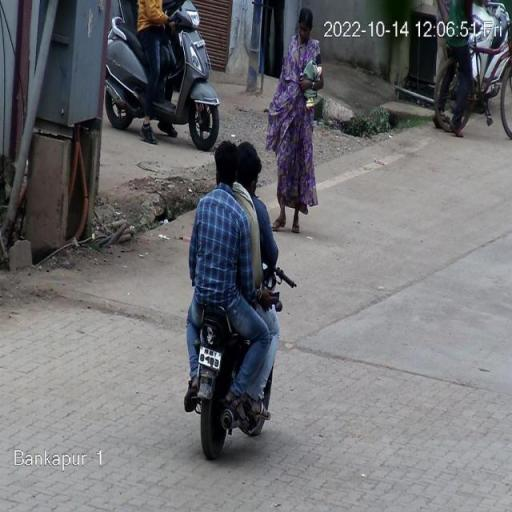tripple riding: (187, 138, 285, 322)
